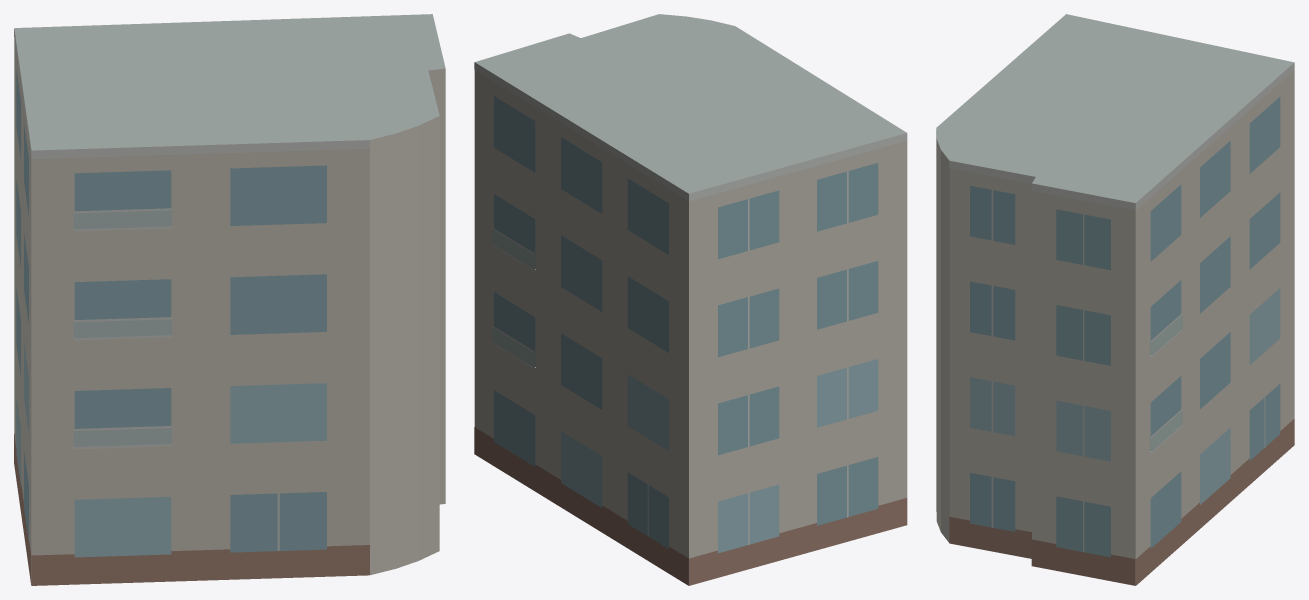
Rendered from survey-upis-32733053.glb.
The picture shows the model from 3 angles, left to right: view 1: azimuth 30°, elevation 25°; view 2: azimuth 150°, elevation 25°; view 3: azimuth 270°, elevation 25°; orthographic projection. The views are drawn at different scales.
Visible parts, largest first — view 1: survey-upis-32733053.tmp; view 2: survey-upis-32733053.tmp; view 3: survey-upis-32733053.tmp.
Part boxes in pixels (<box>): survey-upis-32733053.tmp: <box>14,14,445,585</box>; survey-upis-32733053.tmp: <box>474,14,907,585</box>; survey-upis-32733053.tmp: <box>936,14,1294,585</box>.
Size of the model in its own units: 13.15 by 12.4 by 10.53.
